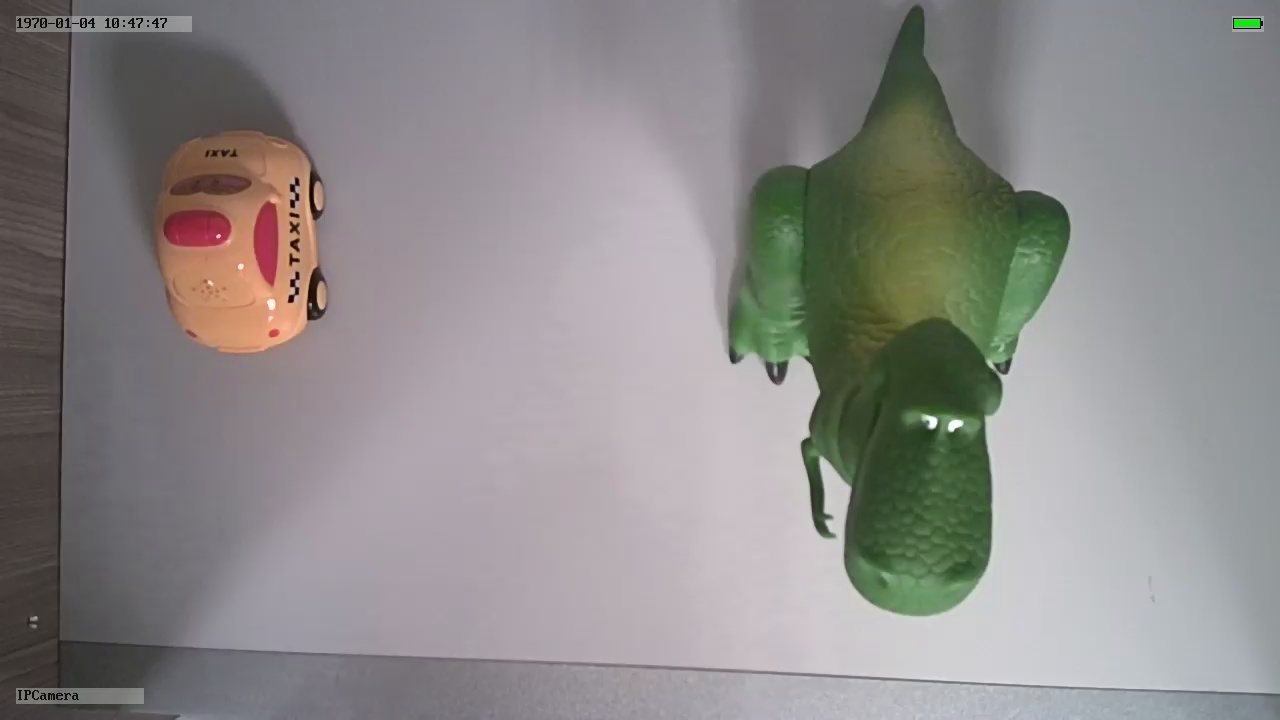car: (155, 127, 334, 353)
rex: (726, 85, 1074, 621)
